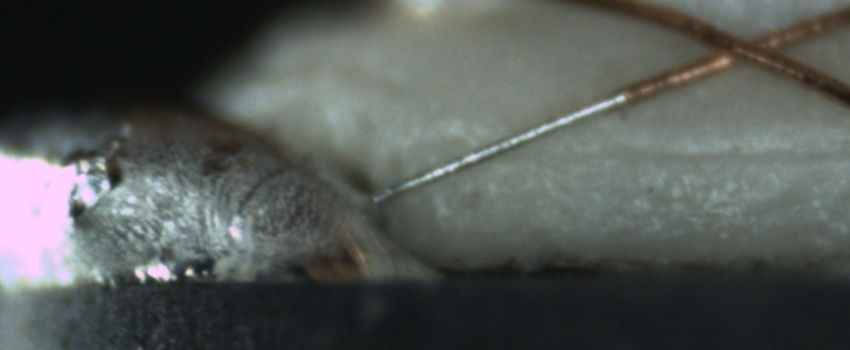CL: (688, 18, 808, 76)
DL: (488, 125, 849, 189)
TS: (373, 90, 630, 202)
